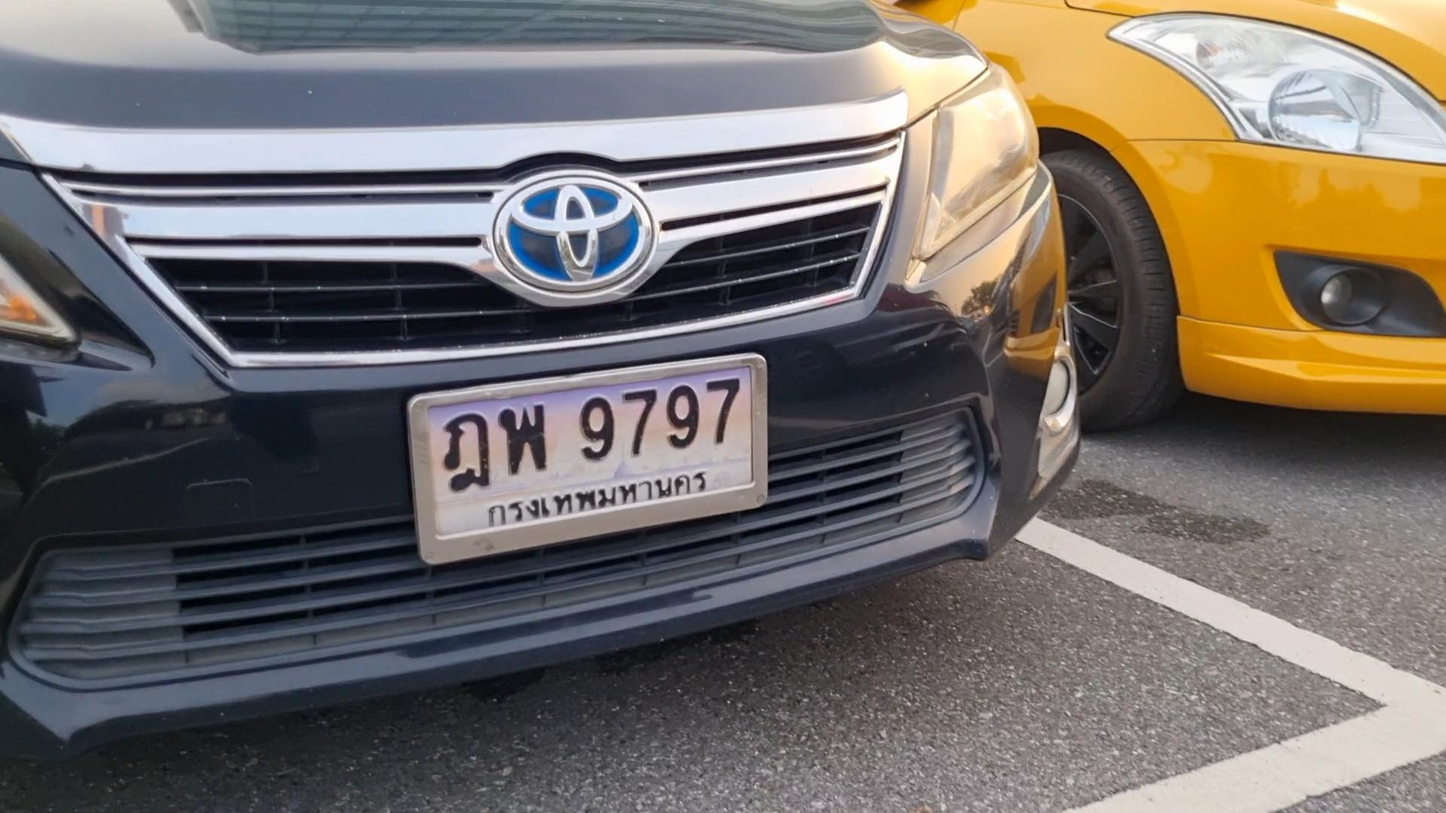license-plate: (401, 349, 775, 576)
